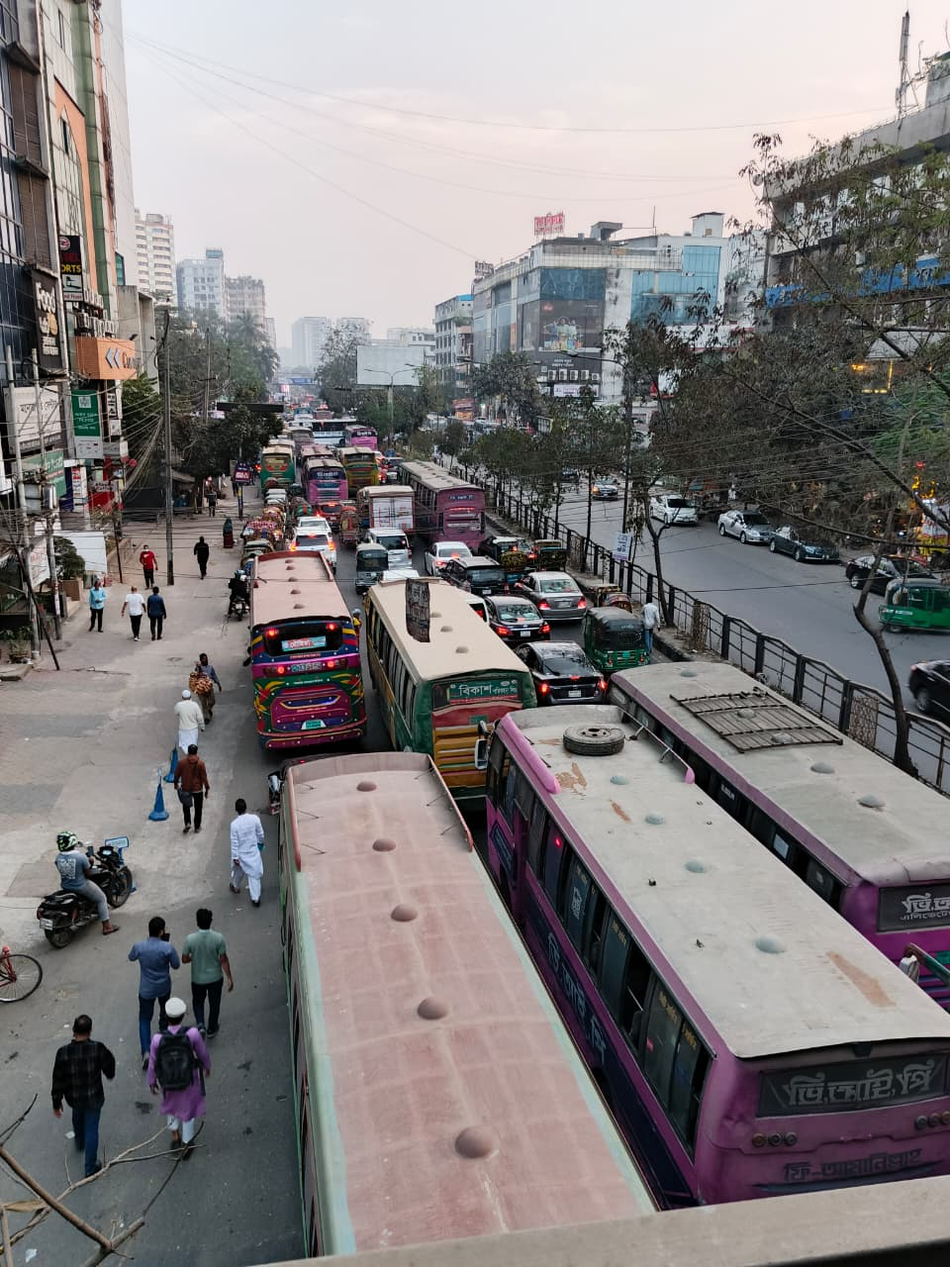Bikes: (40, 822, 182, 969)
Bus: (297, 675, 946, 1267), (356, 570, 522, 767), (247, 528, 364, 745), (406, 453, 515, 540), (309, 414, 392, 482), (868, 577, 950, 633), (302, 448, 354, 524), (252, 431, 301, 494)
cng: (584, 599, 665, 682)
private car: (463, 552, 673, 727), (426, 530, 503, 599), (643, 481, 720, 534), (277, 515, 348, 549)
